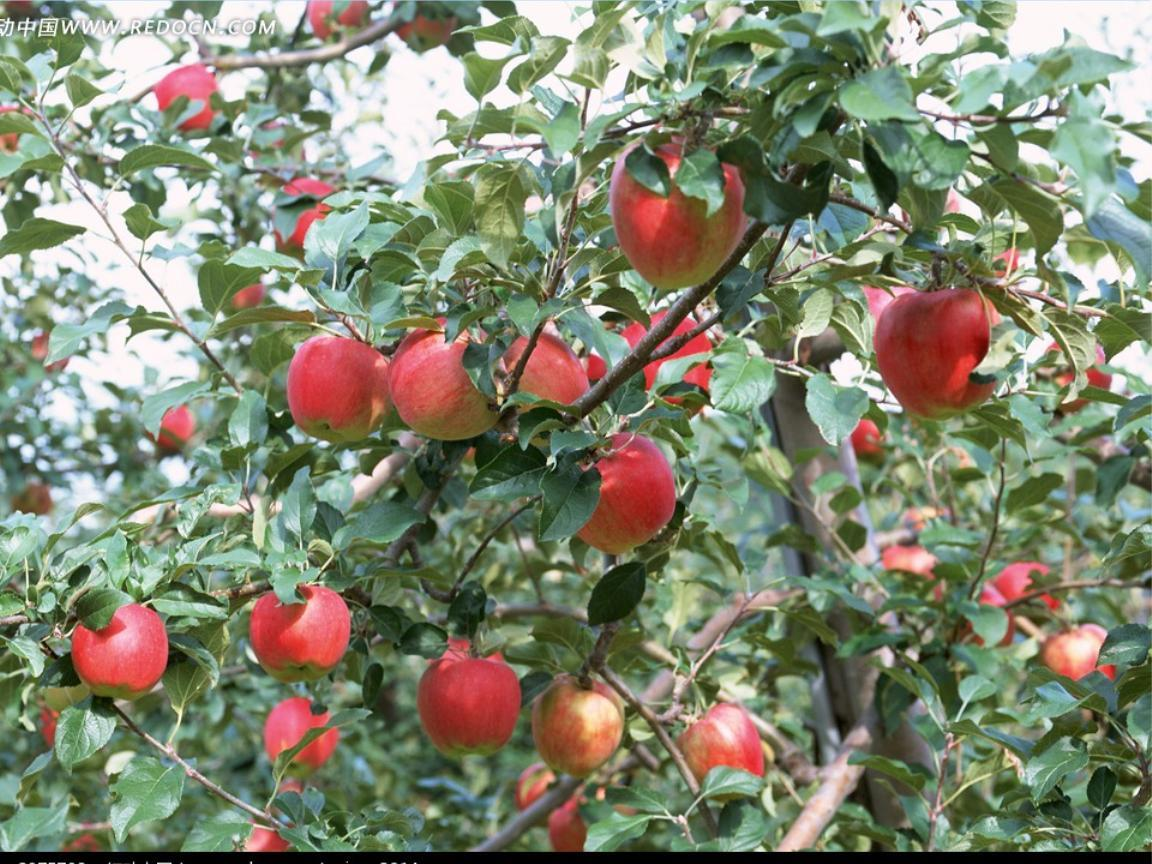apple: (607, 143, 752, 300), (869, 285, 995, 416), (568, 432, 681, 558), (386, 324, 502, 442), (282, 333, 391, 440), (412, 645, 515, 757), (248, 582, 349, 681), (68, 602, 169, 694), (532, 680, 622, 773), (496, 327, 591, 409), (674, 701, 763, 785), (974, 559, 1055, 609), (1039, 624, 1104, 681), (878, 539, 936, 577)
